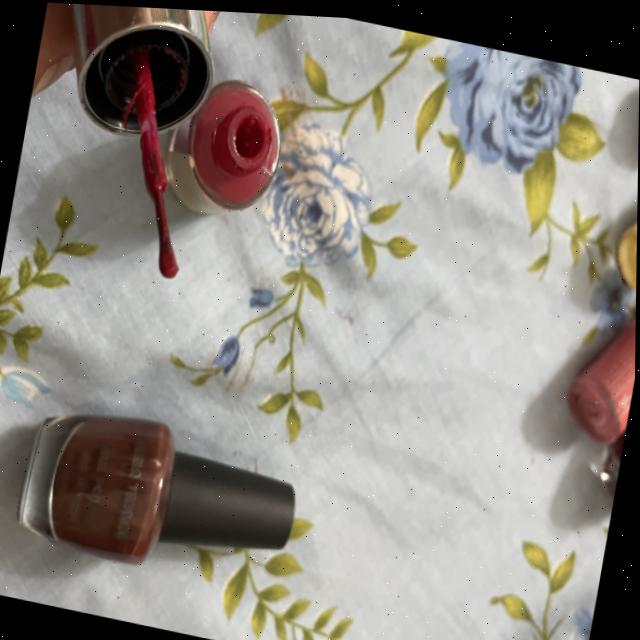nail polish: (16, 1, 321, 345), (0, 361, 327, 624), (1, 0, 236, 310)
